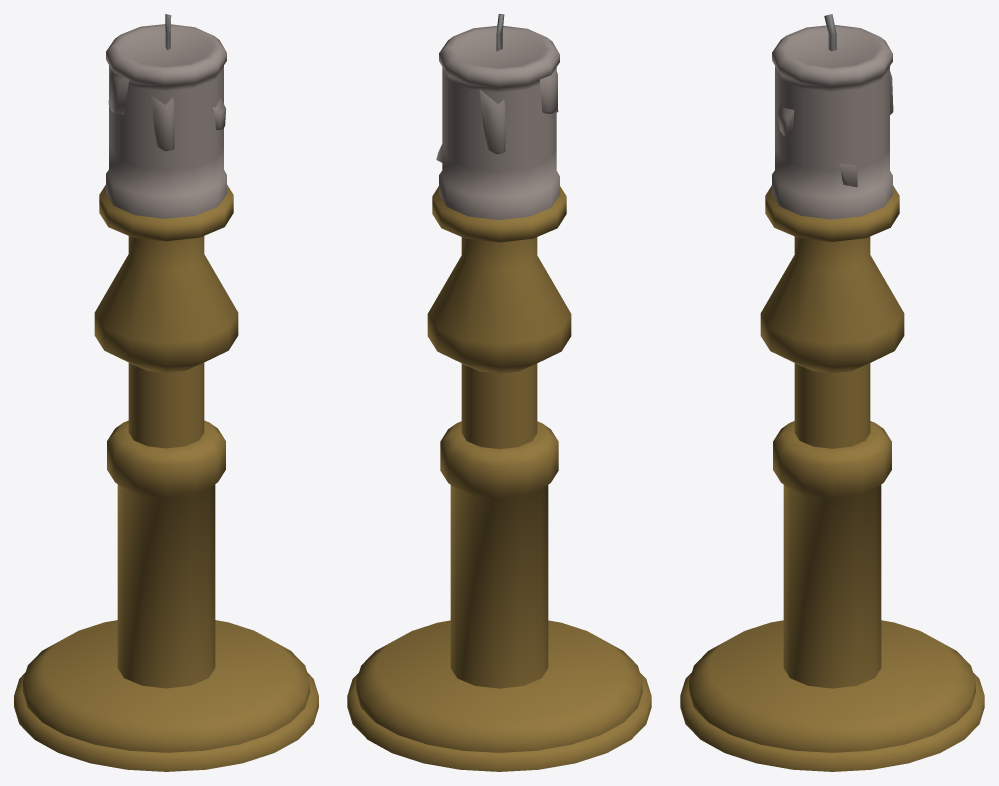
File: DI_051_candle.glb
3 renders of one model, left to right at view 1: azimuth 30°, elevation 25°; view 2: azimuth 150°, elevation 25°; view 3: azimuth 270°, elevation 25°, orthographic.
Parts seen in each view (by area): view 1: CandleStand, Candle; view 2: CandleStand, Candle; view 3: CandleStand, Candle.
Boxes of the visible parts, x1,y1,x2,y2 form: CandleStand: [14, 185, 318, 771]; Candle: [106, 24, 226, 218]; CandleStand: [347, 186, 651, 771]; Candle: [436, 25, 559, 219]; CandleStand: [680, 185, 984, 771]; Candle: [772, 25, 893, 219].
Bounding box in the file's own units: 0.7735 × 1.94 × 0.7735.
